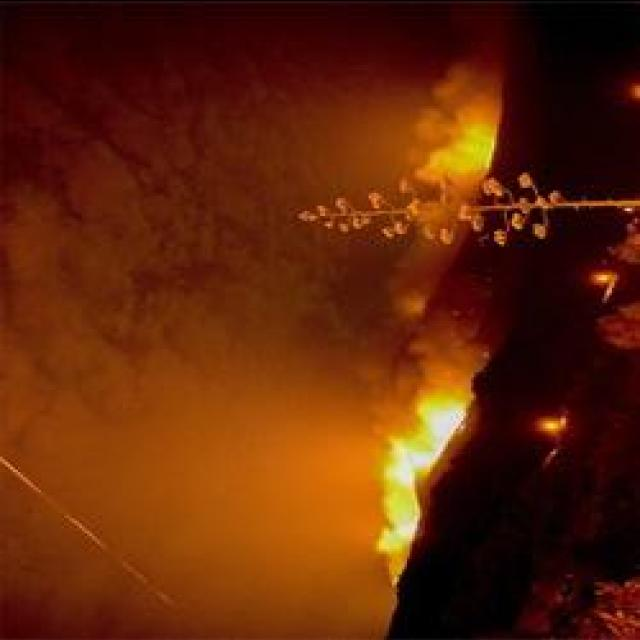fire: (454, 132, 486, 172), (421, 398, 448, 438), (388, 454, 412, 489), (388, 508, 412, 543), (538, 420, 558, 435), (594, 272, 608, 284)
smoke: (154, 324, 298, 524), (190, 66, 393, 150), (32, 99, 156, 210), (50, 538, 164, 622), (36, 379, 131, 471), (178, 204, 284, 274), (236, 559, 348, 625), (320, 287, 380, 391), (44, 284, 140, 344), (272, 28, 385, 66), (435, 31, 470, 99), (333, 449, 365, 499)
